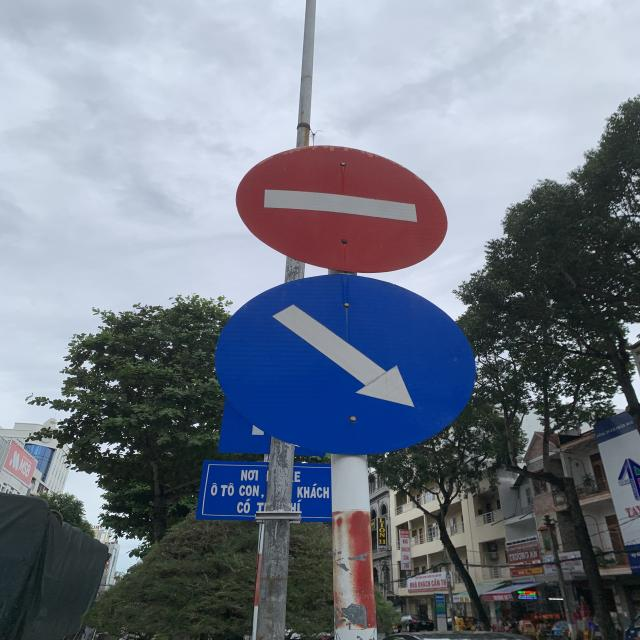Cam_Di_Nguoc_Chieu: (240, 143, 453, 274)
Chi_Huong_Di_Phai: (210, 275, 478, 459)
